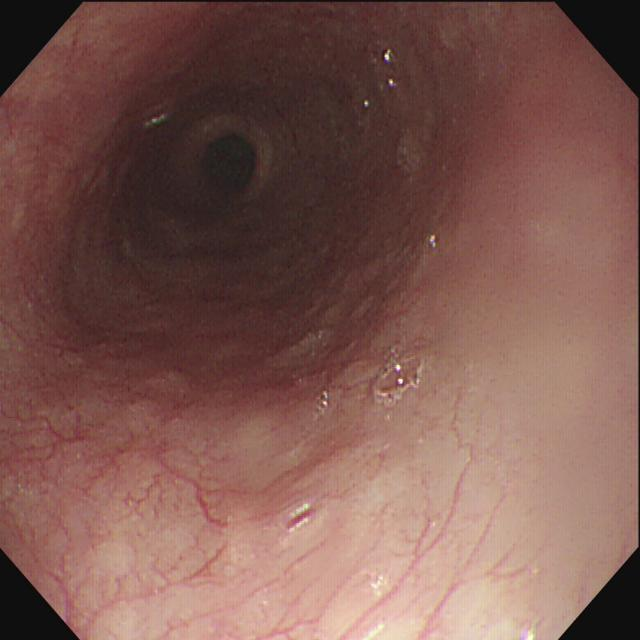E: (171, 98, 289, 224)
T: (372, 356, 427, 407)
U: (384, 49, 400, 89)
